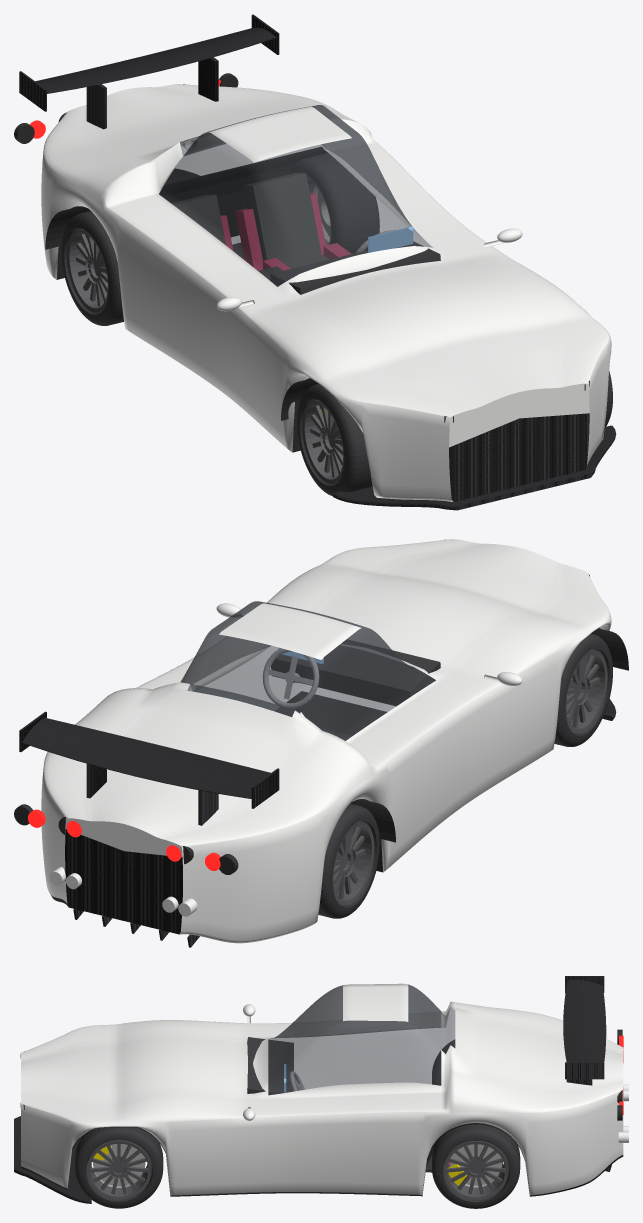
File: nissan-gtr-nismo.glb
3 views of the same model, one above another, from view 1: azimuth 30°, elevation 25°; view 2: azimuth 150°, elevation 25°; view 3: azimuth 270°, elevation 25° (orthographic). The views are drawn at different scales.
Parts seen in each view (by area): view 1: Body_PrimaryPaint, Glass_Windows, Carbon_Exterior, Interior_Seats, Tire_RL, Underbody, Tire_FR, Tire_RR, Rim_FR, Rim_RR, Interior_SeatBolsters, WheelWells (+2 smaller); view 2: Body_PrimaryPaint, Carbon_Exterior, Glass_Windows, Interior_Dashboard, WheelWells, Tire_RR, Rim_FR, Rim_RR, Tire_FR, Interior_SteeringWheel, Lights_Rear, Chrome_Trim (+1 smaller); view 3: Body_PrimaryPaint, Glass_Windows, Carbon_Exterior, Tire_RL, Tire_FL, Rim_RL, Rim_FL, Interior_Dashboard, Underbody, BrakeDisc_FL, BrakeDisc_RL, Tire_RR.
Part boxes in pixels (<box>): Body_PrimaryPaint: <box>41,84,611,501</box>; Glass_Windows: <box>159,105,432,286</box>; Carbon_Exterior: <box>19,14,616,510</box>; Interior_Seats: <box>171,173,328,268</box>; Tire_RL: <box>288,153,379,253</box>; Underbody: <box>56,147,321,452</box>; Tire_FR: <box>296,383,372,496</box>; Tire_RR: <box>61,210,123,325</box>; Rim_FR: <box>302,399,344,483</box>; Rim_RR: <box>66,228,108,312</box>; Interior_SeatBolsters: <box>220,193,351,270</box>; WheelWells: <box>45,147,327,420</box>; Body_PrimaryPaint: <box>41,539,611,943</box>; Carbon_Exterior: <box>19,699,616,947</box>; Glass_Windows: <box>180,601,435,740</box>; Interior_Dashboard: <box>271,639,440,706</box>; WheelWells: <box>286,628,628,842</box>; Tire_RR: <box>318,803,379,918</box>; Rim_FR: <box>565,649,607,733</box>; Rim_RR: <box>332,821,374,905</box>; Tire_FR: <box>554,633,612,746</box>; Interior_SteeringWheel: <box>262,648,319,708</box>; Lights_Rear: <box>28,809,220,870</box>; Chrome_Trim: <box>49,867,197,916</box>; Body_PrimaryPaint: <box>21,983,623,1195</box>; Glass_Windows: <box>268,984,455,1095</box>; Carbon_Exterior: <box>14,976,611,1203</box>; Tire_RL: <box>432,1124,520,1208</box>; Tire_FL: <box>75,1127,163,1208</box>; Rim_RL: <box>443,1141,508,1200</box>; Rim_FL: <box>86,1140,151,1199</box>; Interior_Dashboard: <box>247,1037,293,1095</box>; Underbody: <box>21,1123,623,1196</box>; BrakeDisc_FL: <box>93,1144,145,1187</box>; BrakeDisc_RL: <box>450,1144,502,1187</box>; Tire_RR: <box>432,1039,455,1085</box>.
Bounding box in the file's own units: 2.09 × 1.37 × 4.79.
Materials: 16 (2 with a texture image).
